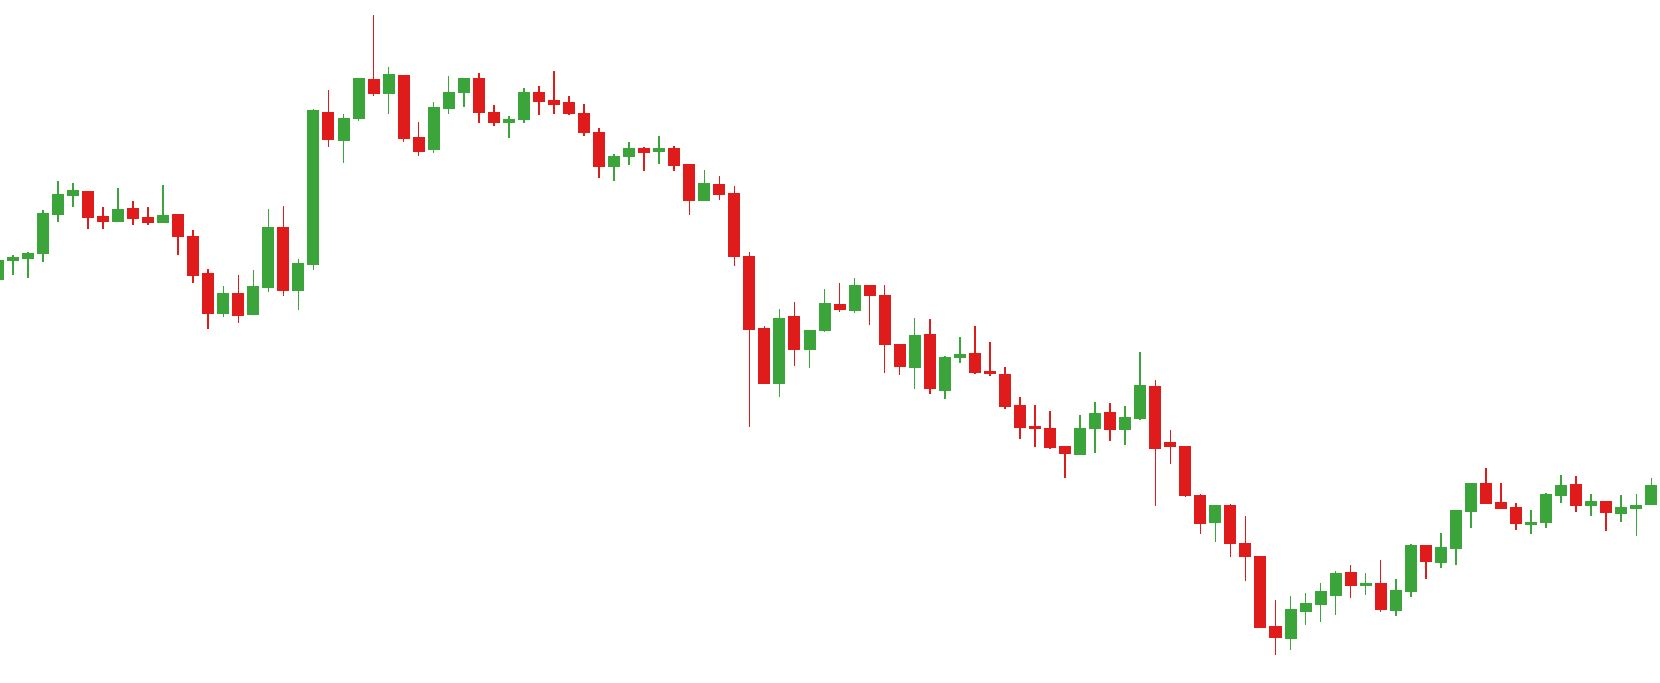sell: (1014, 352, 1163, 449)
